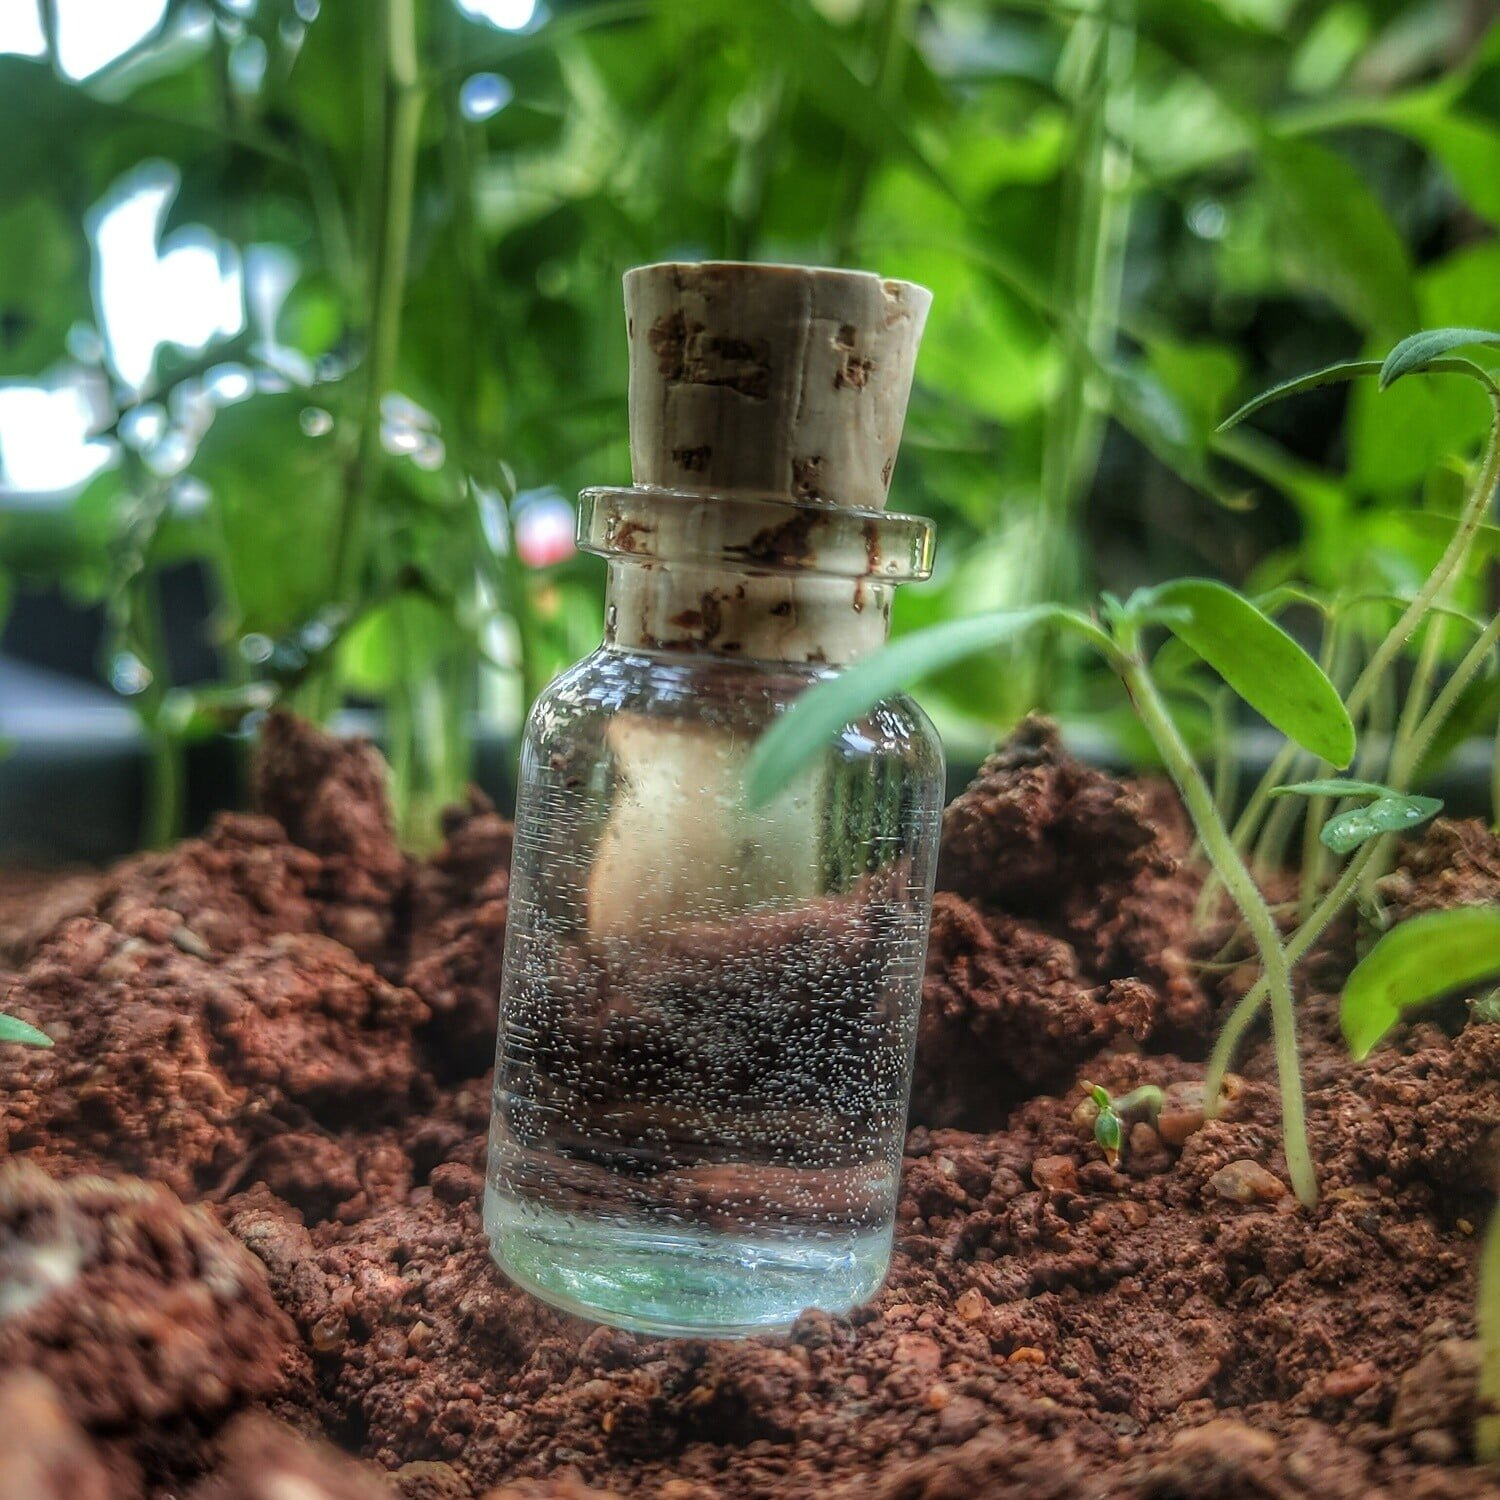glass_bottle: (462, 229, 979, 1378)
